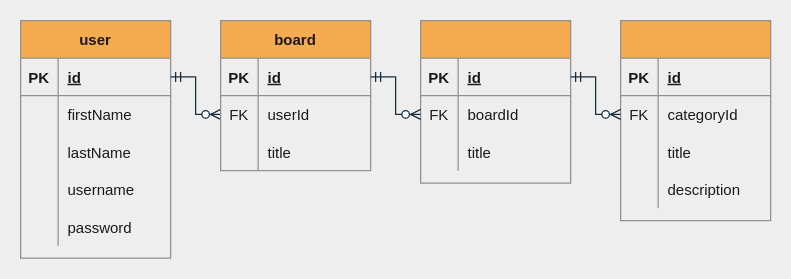
This 791x279 diagram has some shape labels left out. Each missing label, with the box of its shape:
card: (619, 19, 771, 221)
category: (419, 19, 571, 183)
